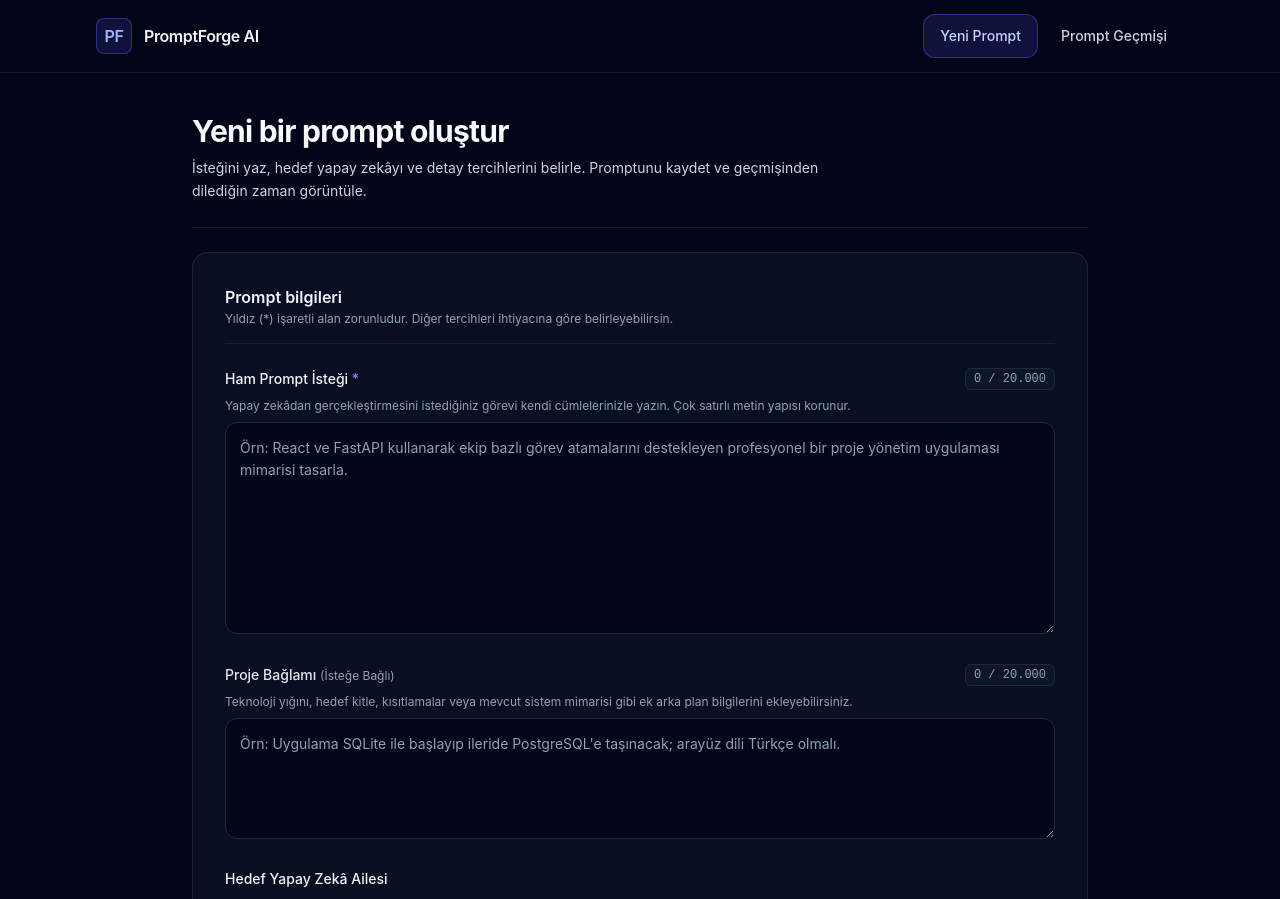
Test: Prompt history, server-side pagination, and navigation (Milestone 4B-1) › navigates between Yeni Prompt and Prompt Geçmişi via accessible header links without hiding mobile nav
Click the link "Prompt Geçmişi" at (1114, 36), box [1061, 27, 1167, 44]
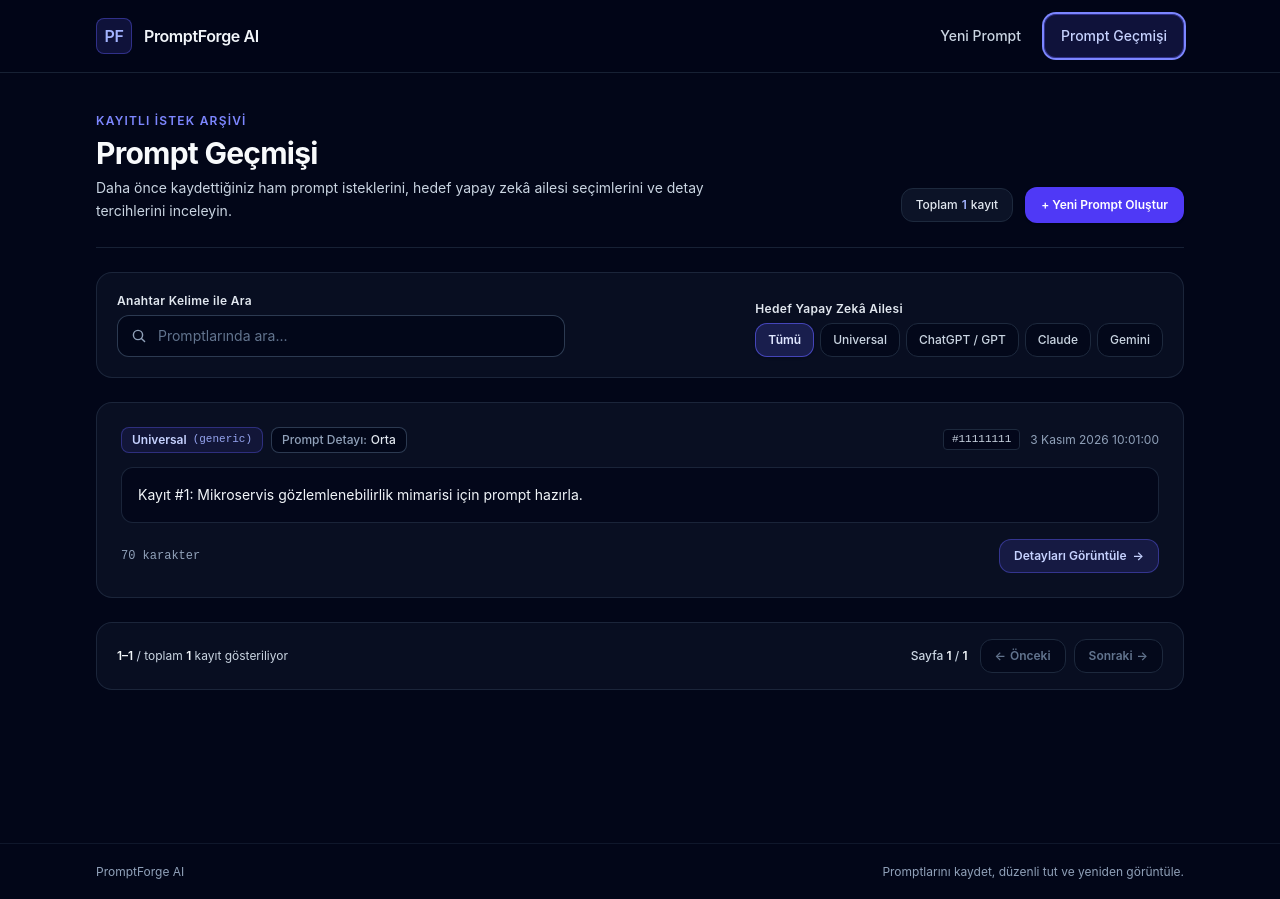
expect the heading "Prompt Geçmişi" is shown: met, box [96, 135, 318, 171]
Click the link "Yeni Prompt" at (981, 36), box [940, 27, 1021, 44]
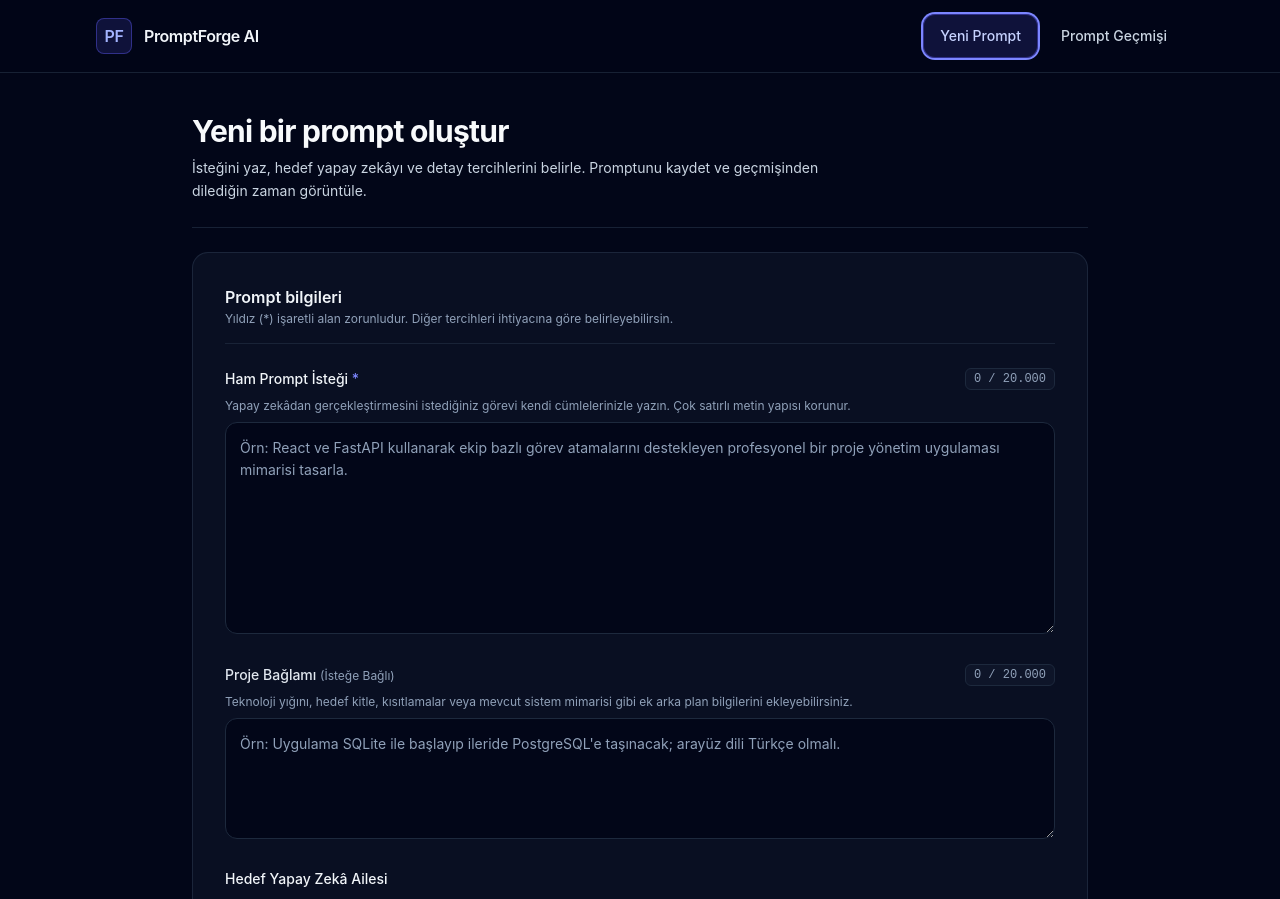
expect the text box labelled "Ham Prompt İsteği *" is shown: met, box [225, 422, 1055, 634]
